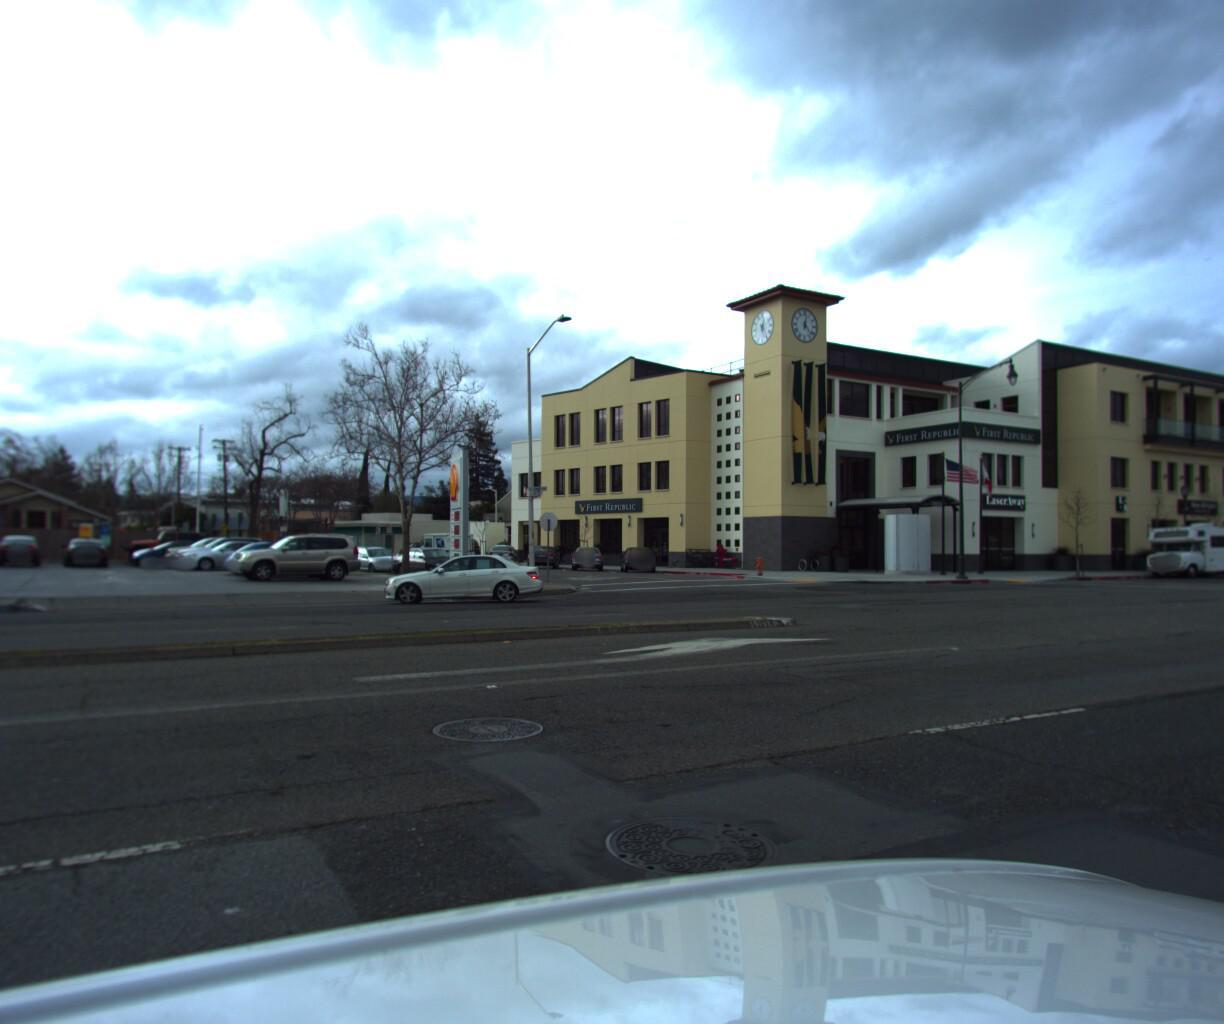car: (387, 530, 548, 600), (224, 530, 369, 583), (170, 533, 284, 570), (160, 532, 273, 569), (174, 537, 291, 573), (219, 541, 334, 576), (125, 534, 235, 567), (122, 530, 221, 566), (391, 543, 477, 576), (338, 542, 413, 571), (61, 535, 121, 567), (618, 541, 660, 573), (570, 541, 608, 571), (524, 540, 560, 569), (484, 540, 521, 567)
other_vehicle: (1129, 513, 1224, 575), (409, 528, 481, 566)
